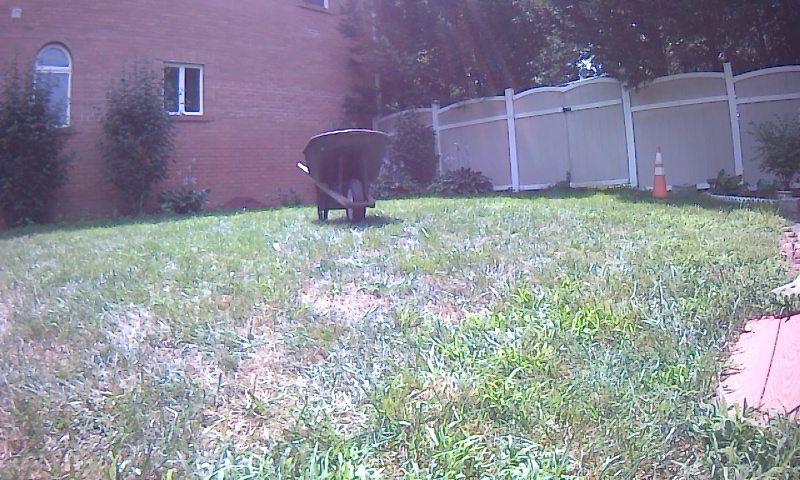wheelbarrow: (281, 116, 415, 256)
